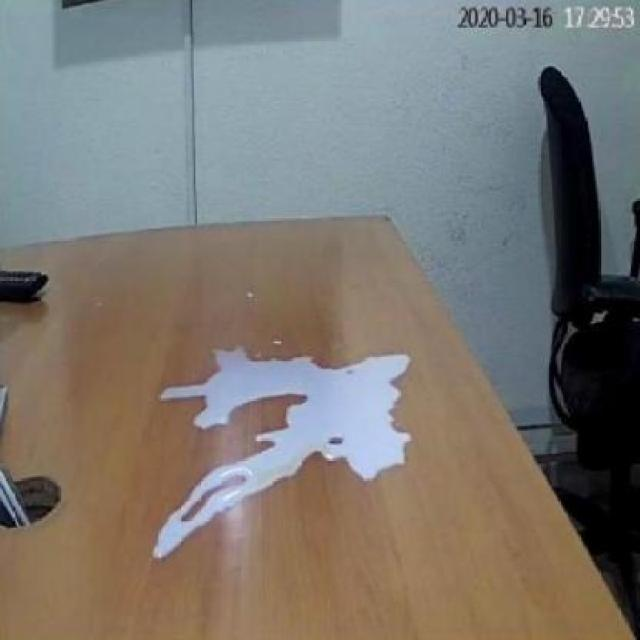spillage: (152, 347, 412, 560)
